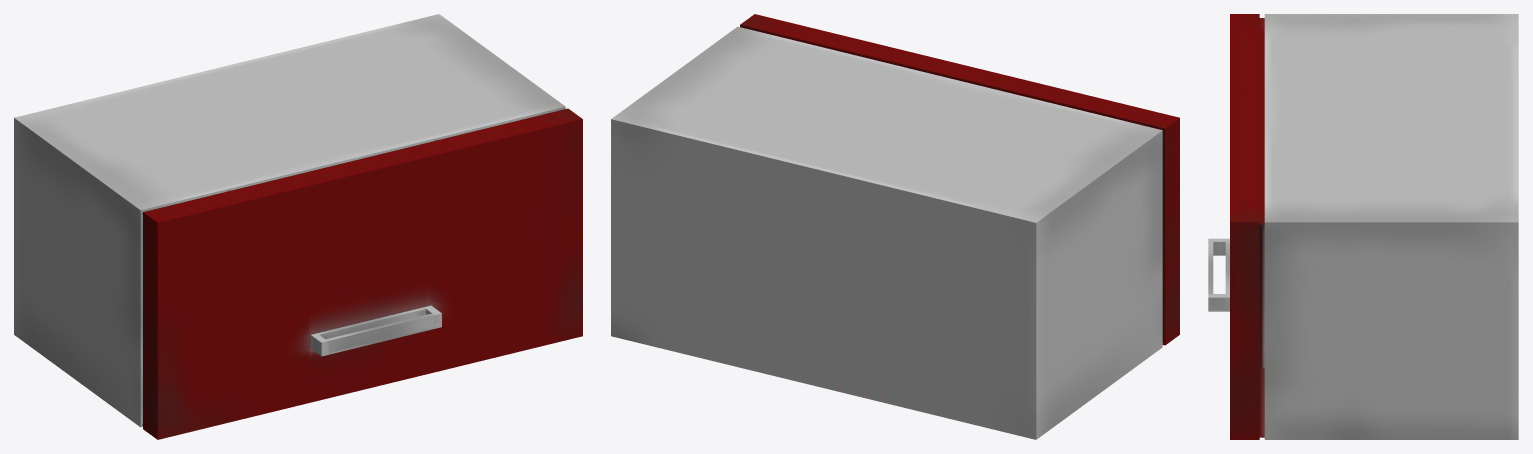
Rendered from mensola cucina2.FBX.
The picture shows the model from 3 angles, left to right: view 1: azimuth 30°, elevation 25°; view 2: azimuth 150°, elevation 25°; view 3: azimuth 270°, elevation 25°; orthographic projection.
Visible parts, largest first — view 1: altra mensolina; view 2: altra mensolina; view 3: altra mensolina.
Part boxes in pixels (x1,y1,x2,y2): altra mensolina: [14, 14, 582, 439]; altra mensolina: [611, 14, 1179, 439]; altra mensolina: [1208, 14, 1518, 439].
Size of the model in its own units: 1.02 by 0.5 by 0.645.
